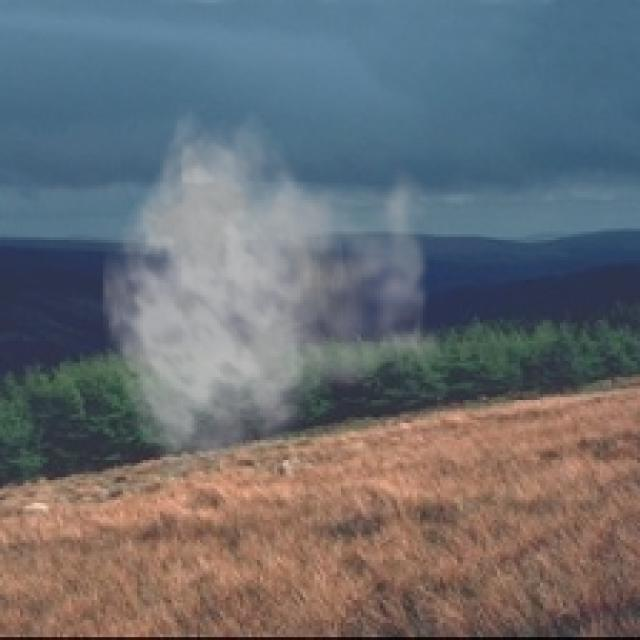smoke: (100, 103, 460, 477)
